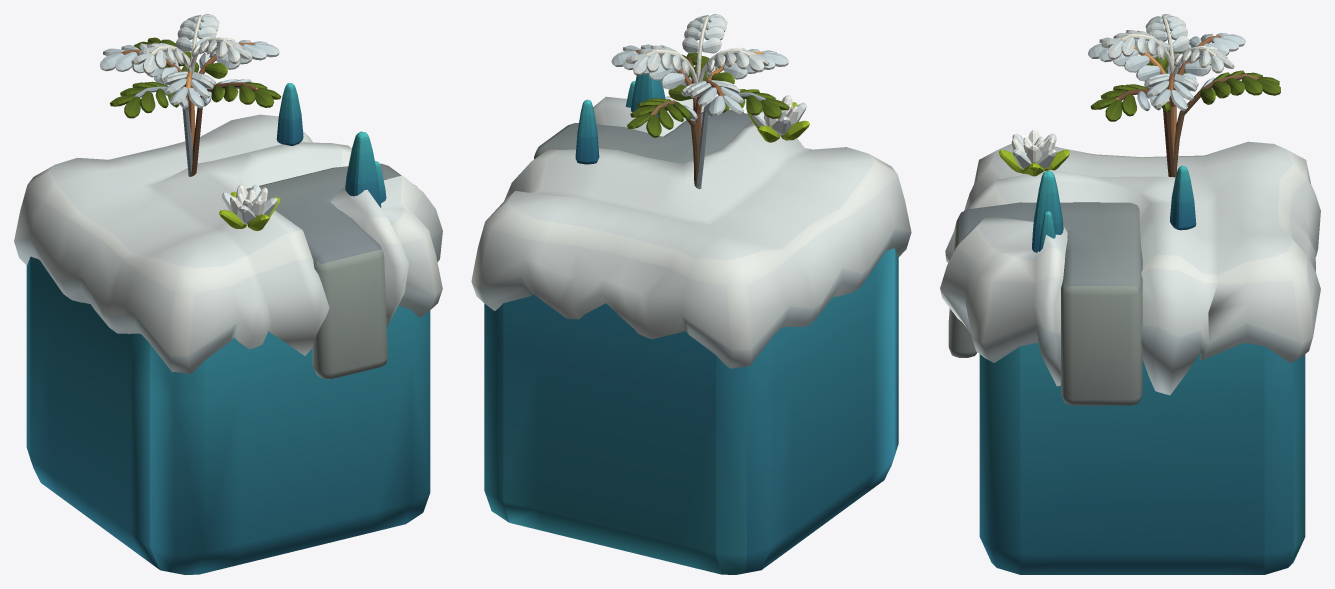
The model's file is Winter12.fbx.
The picture shows the model from 3 angles, left to right: view 1: azimuth 30°, elevation 25°; view 2: azimuth 150°, elevation 25°; view 3: azimuth 270°, elevation 25°; orthographic projection. The views are drawn at different scales.
Visible parts, largest first — view 1: Winter12, Winter_Cube12.002, Winter_Cube_12.001, Road12.002; view 2: Winter12, Winter_Cube12.002, Winter_Cube_12.001, Road12.002; view 3: Winter12, Winter_Cube12.002, Road12.002, Winter_Cube_12.001.
Boxes of the visible parts, left/top/right/bottom form: Winter12: left=26, top=256, right=430, bottom=574; Winter_Cube12.002: left=14, top=114, right=442, bottom=373; Winter_Cube_12.001: left=100, top=14, right=386, bottom=230; Road12.002: left=246, top=163, right=416, bottom=379; Winter12: left=484, top=248, right=898, bottom=574; Winter_Cube12.002: left=471, top=95, right=911, bottom=368; Winter_Cube_12.001: left=575, top=14, right=809, bottom=189; Road12.002: left=534, top=109, right=751, bottom=163; Winter12: left=979, top=343, right=1305, bottom=574; Winter_Cube12.002: left=940, top=141, right=1320, bottom=395; Road12.002: left=948, top=202, right=1142, bottom=405; Winter_Cube_12.001: left=999, top=14, right=1280, bottom=252.
Bounding box in the file's own units: 114 × 164 × 117.
